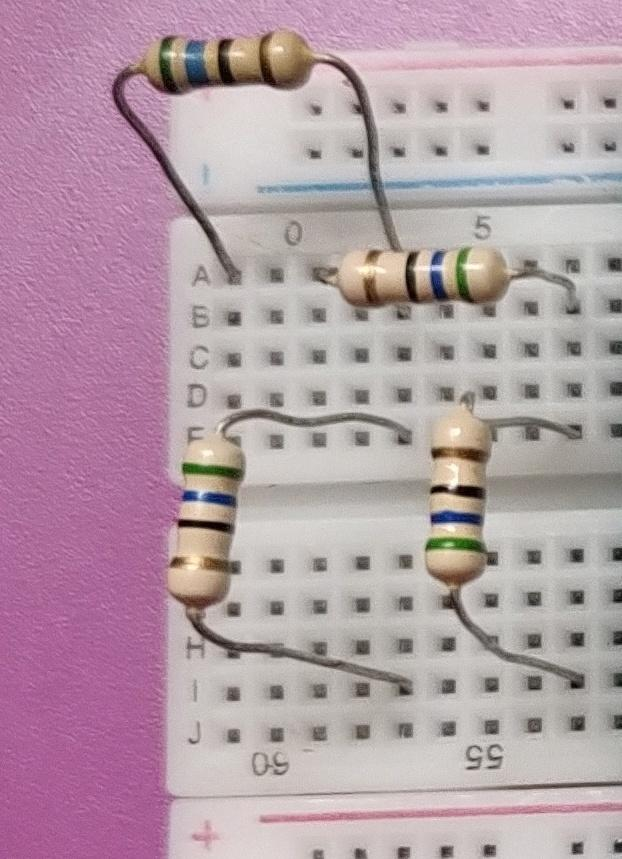resistor: (155, 415, 261, 650), (409, 399, 518, 626), (320, 222, 529, 333), (117, 17, 342, 112)
